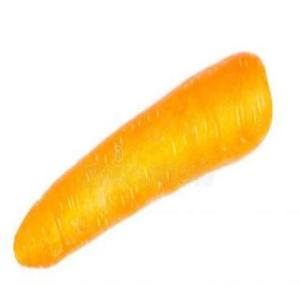carrot: (5, 42, 281, 280)
